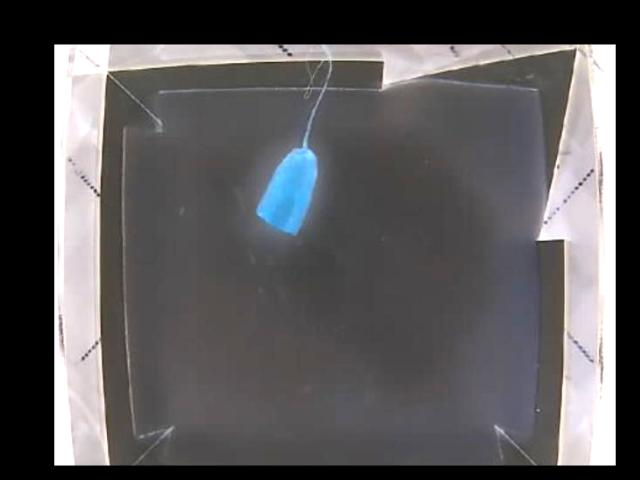Carrot: (250, 145, 331, 232)
